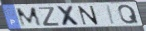I: (106, 4, 117, 25)
M: (15, 6, 43, 27)
N: (78, 5, 100, 26)
Q: (117, 4, 140, 25)
X: (56, 5, 83, 26)
Z: (38, 6, 61, 27)
